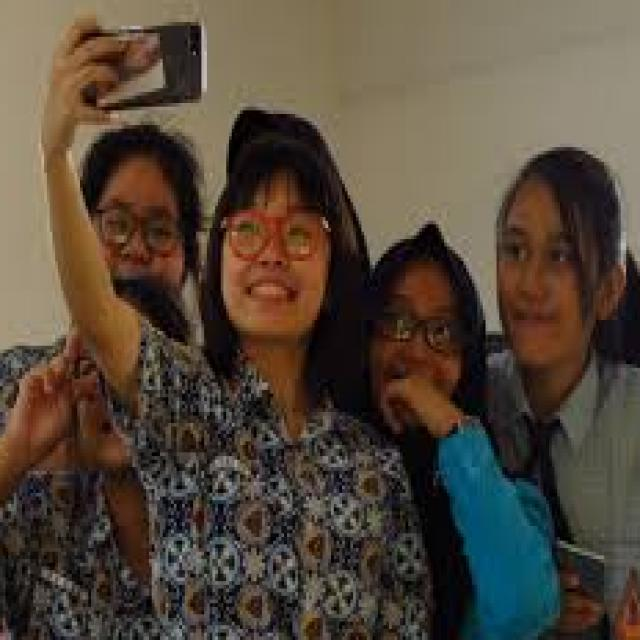Glasses: (215, 202, 334, 265), (82, 199, 198, 261), (372, 302, 469, 361)
